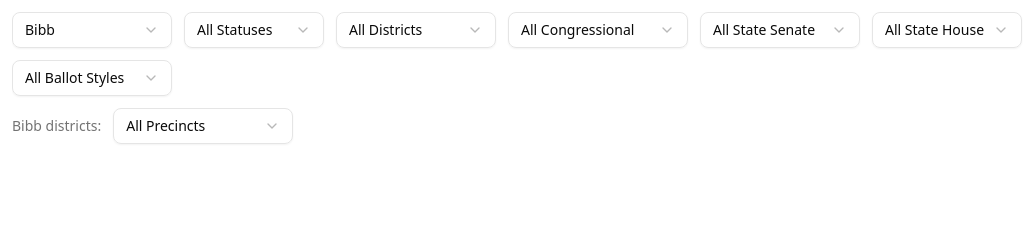
ParticipantFilters › precinct dropdown shows precinct options when county is set
Click the dropdown named "filter by precinct".
click(203, 126)  # box [113,108,293,144]
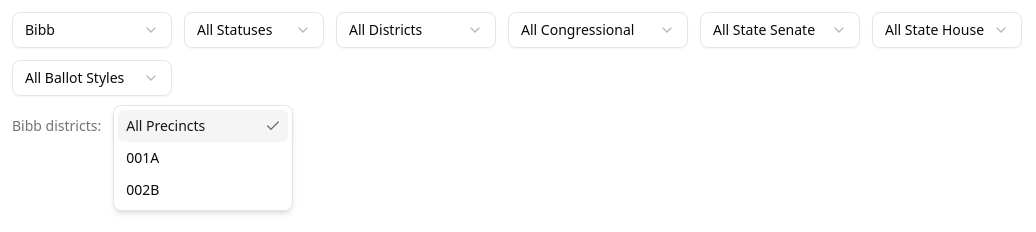
Expected: the option "001A" is shown, [126,148,159,167]
Expected: the option "002B" is shown, [126,180,159,199]
